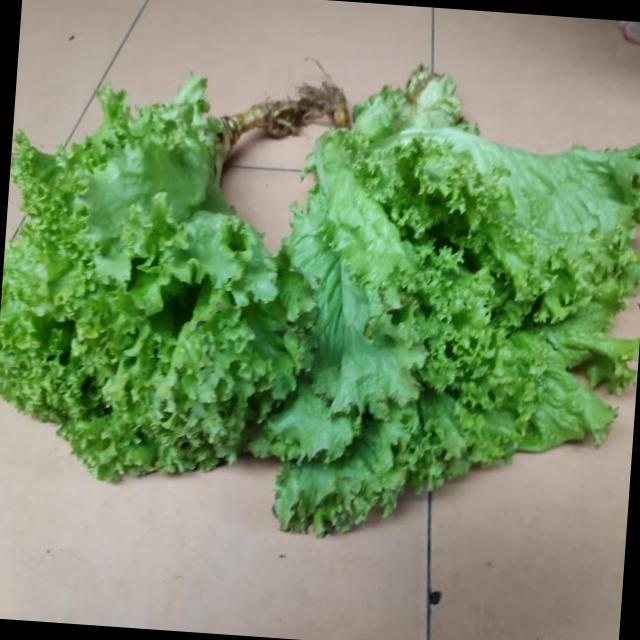Lettuce-Ready-to-Harvest: (251, 69, 640, 533), (0, 77, 294, 479)
